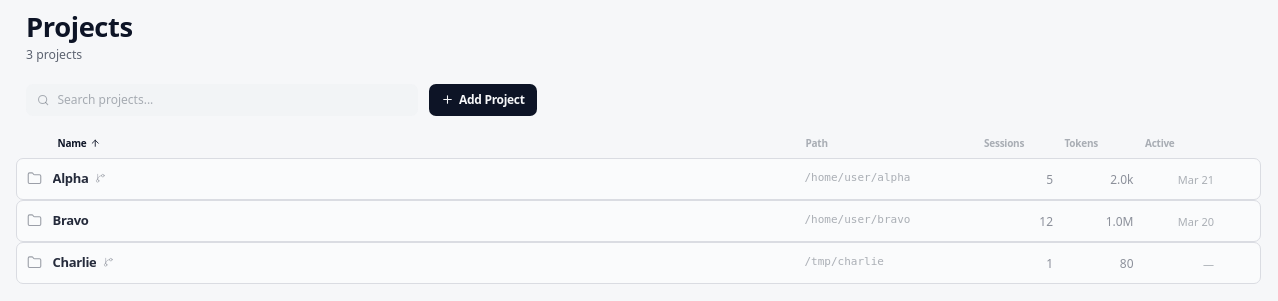
ProjectGrid › filters projects by name when searching
Type "bravo" into the field with placeholder "Search projects...". click: (222, 100)
box: [26,84,418,116]
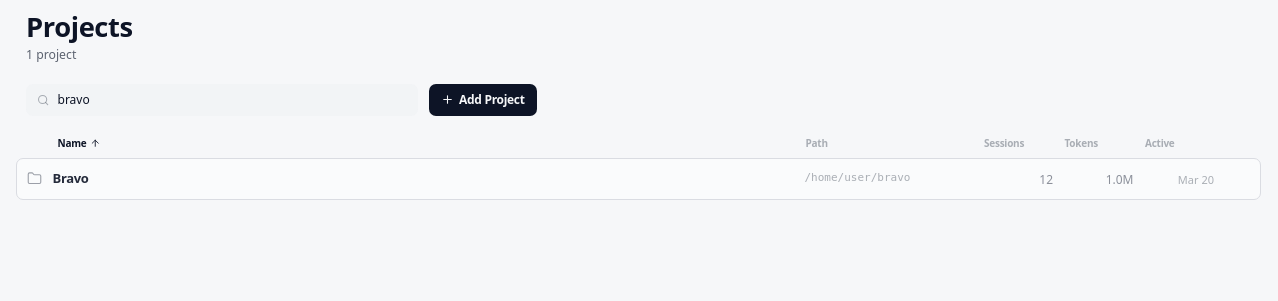
Check: the button "Alpha" is gone
Check: the button "Charlie" is gone
Check: the text "1 project" is shown, box [26,46,76,63]
